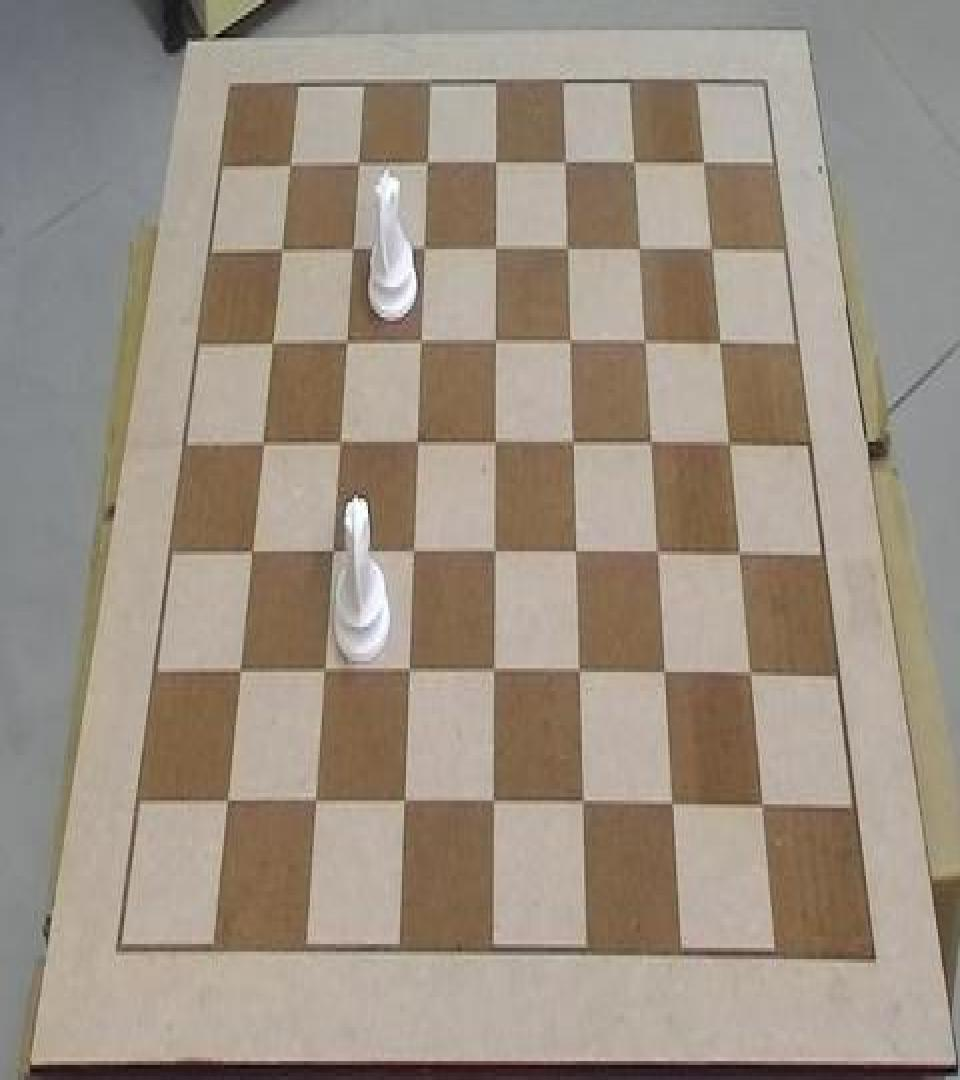xcorner: (694, 144, 714, 182), (625, 144, 645, 182), (555, 144, 575, 182), (486, 144, 506, 182), (417, 144, 437, 182), (348, 144, 368, 182), (279, 144, 299, 182), (702, 230, 722, 268), (630, 230, 650, 268), (558, 230, 578, 268), (486, 230, 506, 268), (414, 230, 434, 268), (342, 230, 362, 268), (271, 230, 291, 268), (711, 324, 731, 362), (636, 324, 656, 362), (561, 322, 581, 360), (486, 322, 506, 360), (411, 322, 431, 360), (336, 322, 356, 360), (262, 322, 282, 360), (721, 426, 741, 464), (642, 424, 662, 462), (564, 424, 584, 462), (486, 424, 506, 462), (408, 424, 428, 462), (330, 424, 350, 462), (252, 423, 272, 461), (731, 536, 751, 574), (649, 536, 669, 574), (567, 536, 587, 574), (485, 534, 505, 572), (404, 534, 424, 572), (322, 534, 342, 572), (241, 534, 261, 572), (742, 657, 762, 695), (656, 657, 676, 695), (571, 657, 591, 695), (485, 655, 505, 693), (400, 655, 420, 693), (315, 655, 335, 693), (230, 653, 250, 691), (755, 791, 775, 829), (665, 791, 685, 829), (575, 789, 595, 827), (485, 789, 505, 827), (395, 787, 415, 825), (306, 787, 326, 825), (217, 786, 237, 824)
